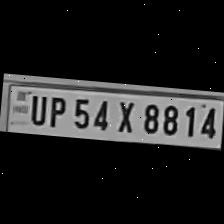1: (178, 103, 198, 139)
4: (89, 96, 113, 132), (196, 103, 219, 140)
5: (68, 94, 92, 130)
8: (136, 99, 161, 136), (158, 100, 181, 138)
P: (43, 92, 67, 130)
U: (25, 90, 47, 127)
X: (110, 98, 138, 134)
